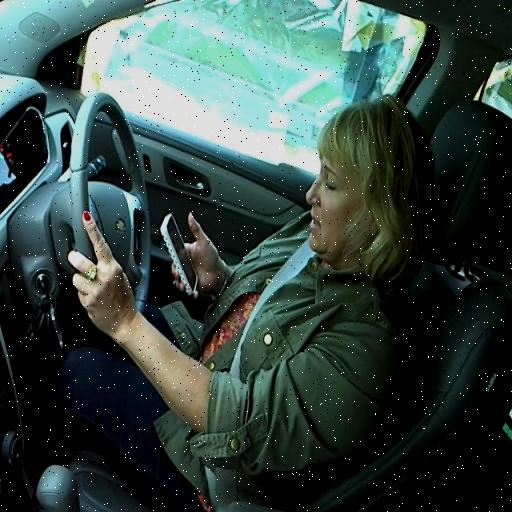texting_phone: (67, 108, 429, 458)
